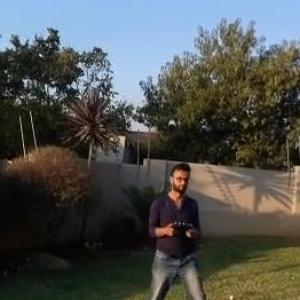follow: (137, 159, 213, 299)
